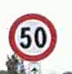limite 50: (8, 12, 55, 62)
